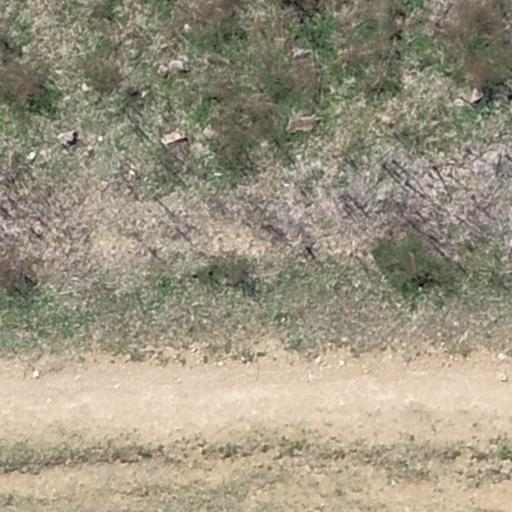stone: (283, 112, 329, 134), (54, 129, 85, 150), (156, 130, 190, 147), (168, 58, 194, 78), (286, 44, 316, 61), (28, 218, 50, 240), (470, 82, 486, 102), (22, 151, 41, 166), (203, 55, 223, 68), (146, 244, 161, 260), (156, 65, 172, 79), (202, 126, 218, 140), (379, 114, 395, 127), (31, 368, 42, 380), (453, 98, 466, 108), (496, 372, 508, 382), (80, 82, 92, 92), (498, 352, 508, 361), (314, 355, 323, 365), (182, 23, 192, 32), (128, 168, 136, 178), (216, 359, 225, 367), (338, 358, 346, 366), (140, 90, 148, 98), (112, 382, 120, 390), (213, 172, 223, 178), (97, 135, 104, 143)
